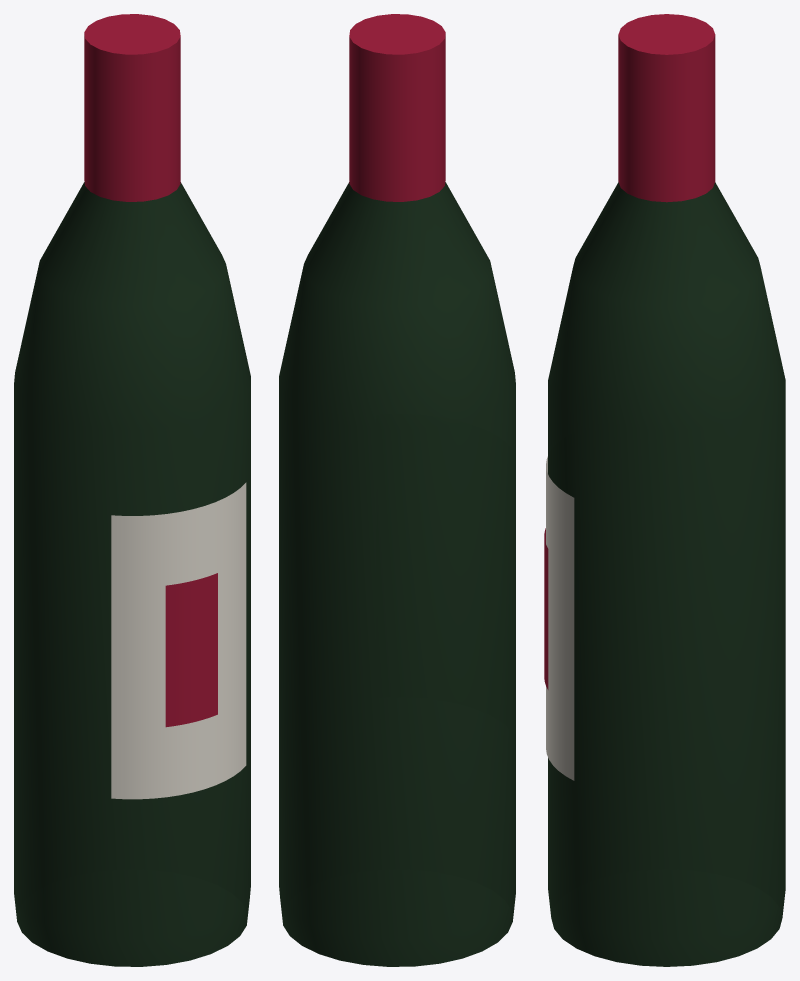
File: KIT_Garrafa_Vinho.glb
3 renders of one model, left to right at view 1: azimuth 30°, elevation 25°; view 2: azimuth 150°, elevation 25°; view 3: azimuth 270°, elevation 25°, orthographic.
Visible parts, largest first — view 1: KIT_Garrafa_Vinho; view 2: KIT_Garrafa_Vinho; view 3: KIT_Garrafa_Vinho.
Part boxes in pixels (box(x1,y1,x2,y2)): KIT_Garrafa_Vinho: box(14, 14, 250, 966); KIT_Garrafa_Vinho: box(279, 14, 515, 966); KIT_Garrafa_Vinho: box(544, 14, 785, 966).
Bounding box in the file's own units: 0.076 × 0.312 × 0.0772.
